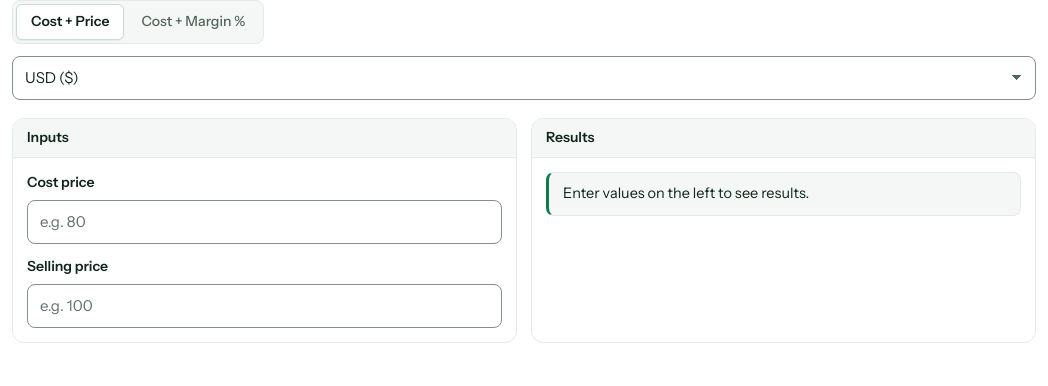
MarginCalculator › derives price from cost and desired margin %
The width and height of the screenshot is (1048, 386).
Click the tab "Cost + Margin %" at point(193, 22), box [126,4,260,40]
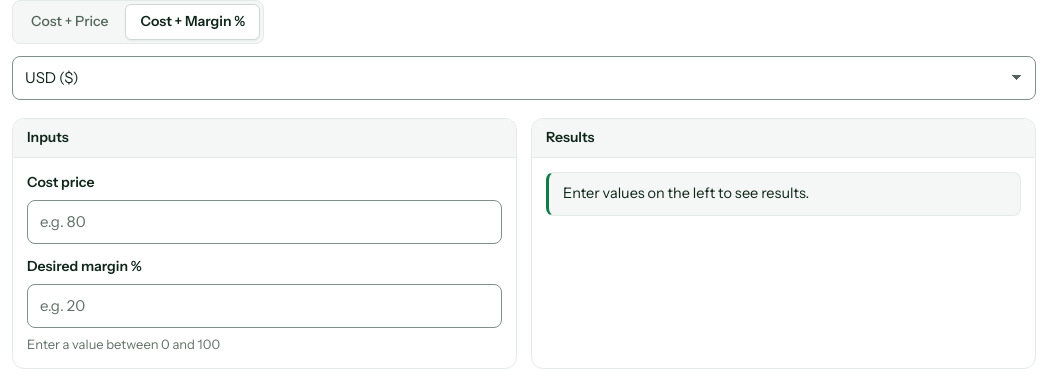
Type "80" into the number field with placeholder "e.g. 80" at point(264, 222), box [27,200,502,244]
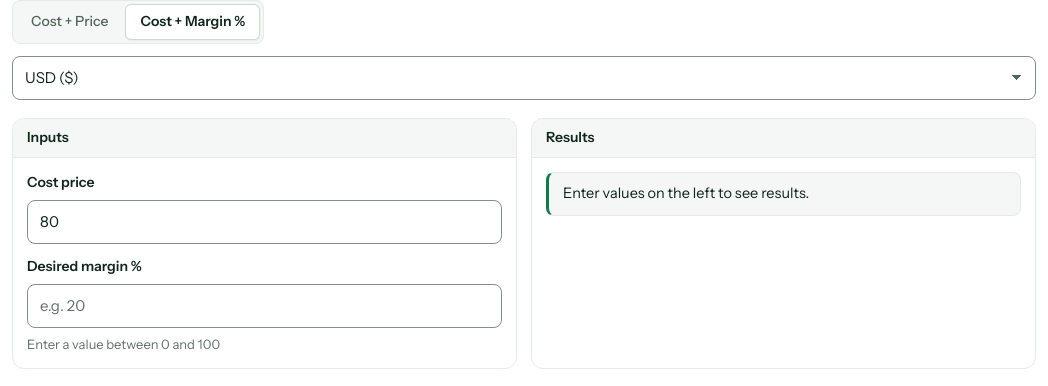
Type "20" into the number field with placeholder "e.g. 20" at point(264, 306), box [27,284,502,328]
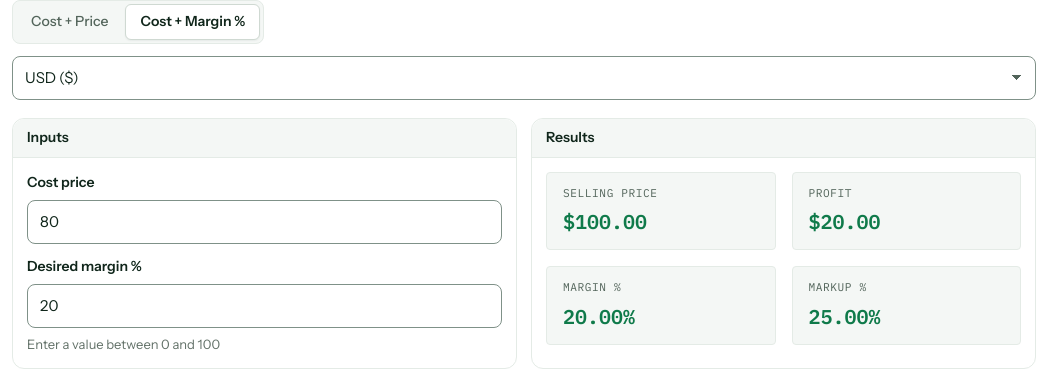
Result: the text with test id "result-price" shows "100.00" at [563,208,647,235]
Result: the text with test id "result-profit" shows "20.00" at [808,208,880,235]
Result: the text with test id "result-margin" reads "20.00%" at [563,303,635,330]
